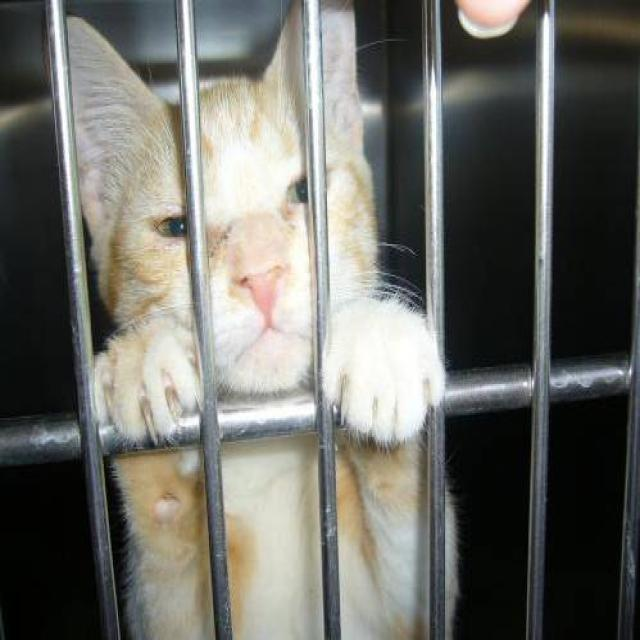cat: (41, 0, 461, 638)
